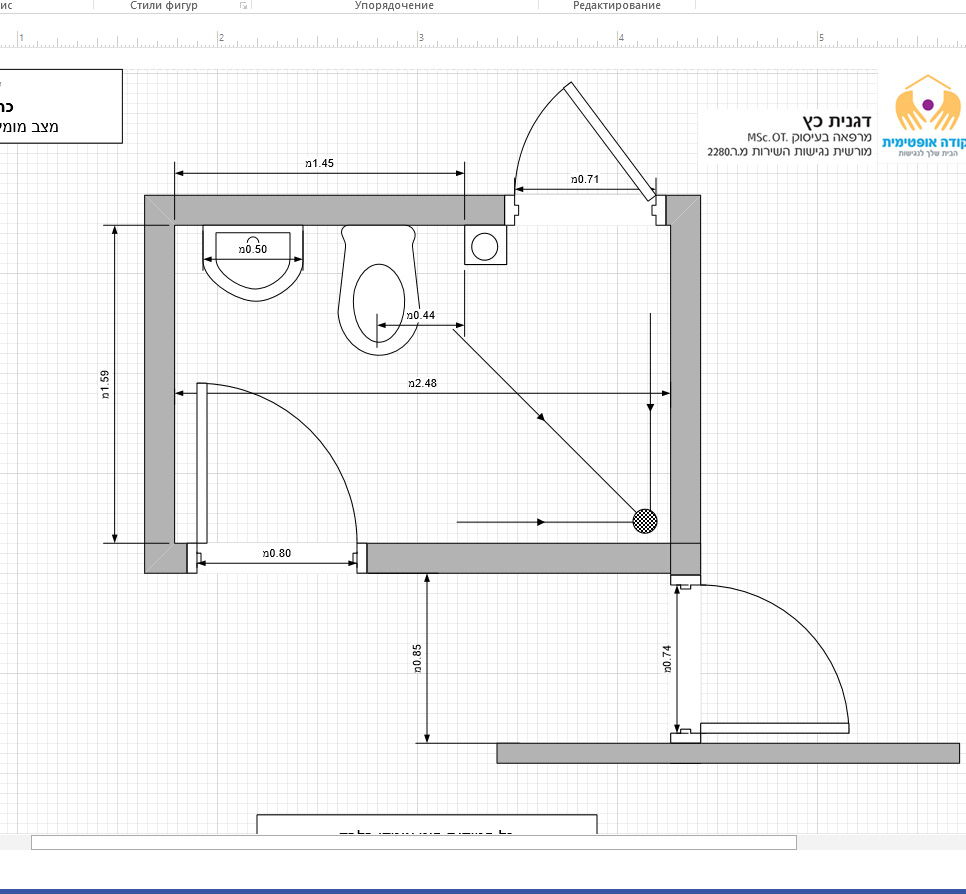door: (190, 359, 380, 531), (716, 572, 872, 743)
wall: (668, 200, 696, 544), (176, 196, 464, 224), (144, 230, 170, 538), (372, 544, 675, 570), (500, 747, 958, 763)
